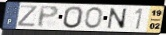1: (134, 8, 144, 31)
N: (107, 7, 128, 30)
O: (63, 6, 85, 29), (84, 6, 104, 29)
P: (37, 5, 61, 29)
Z: (16, 5, 39, 28)
